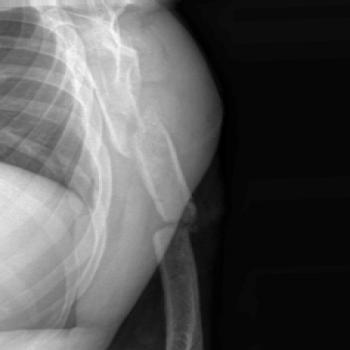Fracture: (117, 98, 172, 149), (144, 210, 204, 242)
